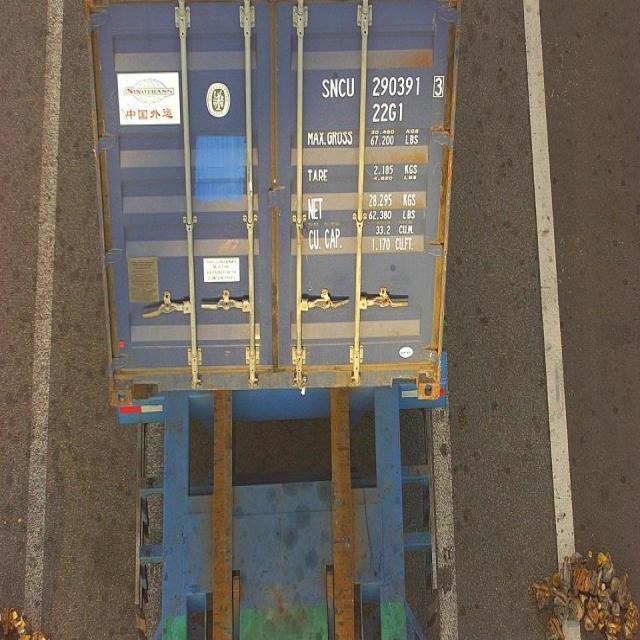ISO: (374, 102, 404, 126)
container_number: (323, 73, 447, 101)
